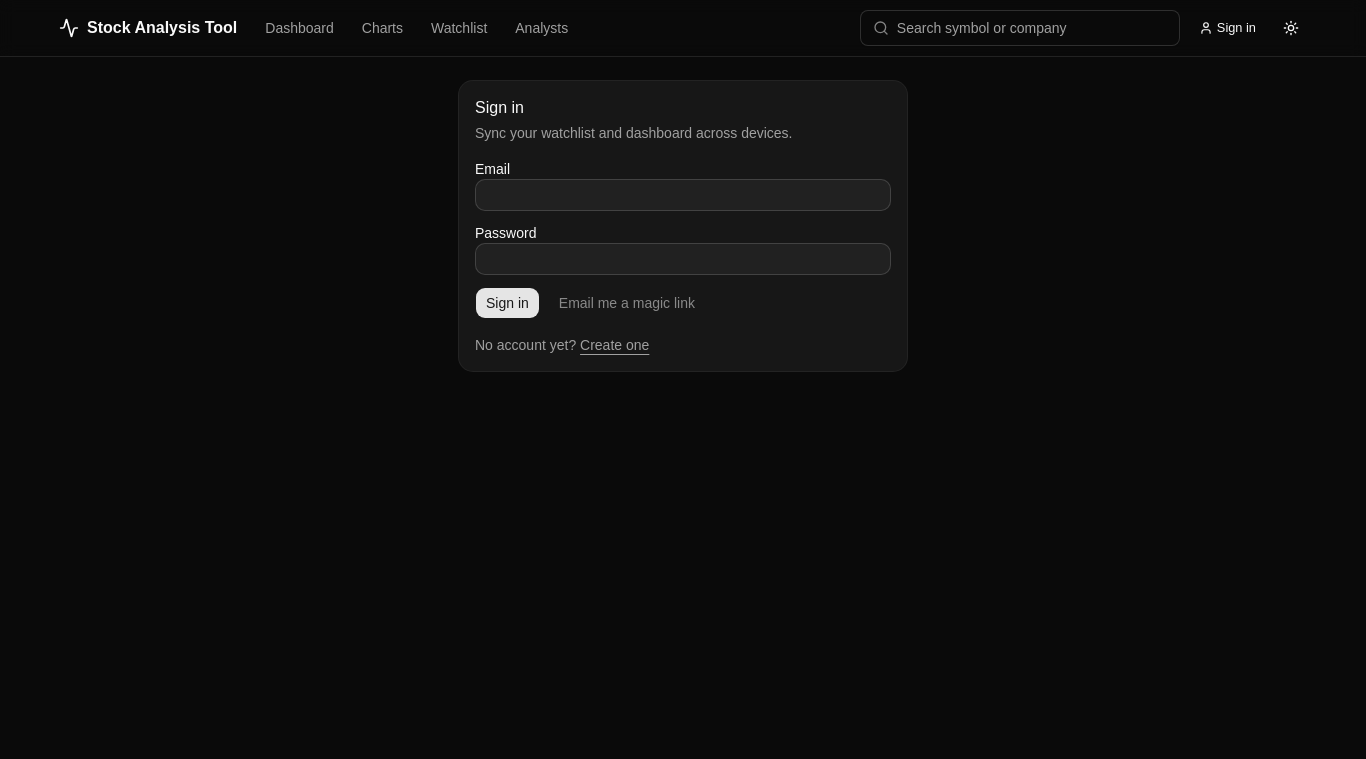
Test: auth flow › creates an account and lands on the dashboard
The width and height of the screenshot is (1366, 759).
Step 1. Click the button "Create one" → coordinates (615, 345), box [580, 335, 649, 355]
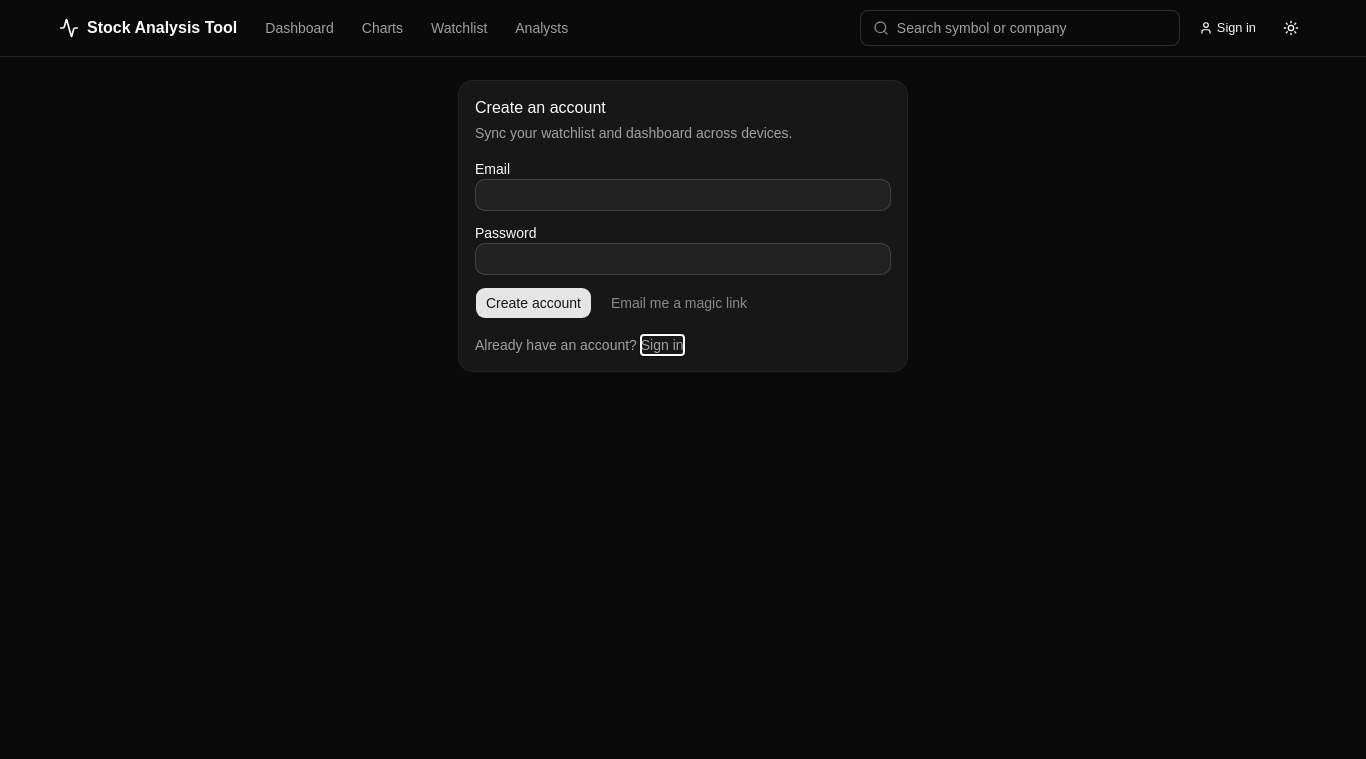
Step 2. Type "new@example.com" into the field labelled "Email" → coordinates (683, 195), box [475, 179, 891, 211]
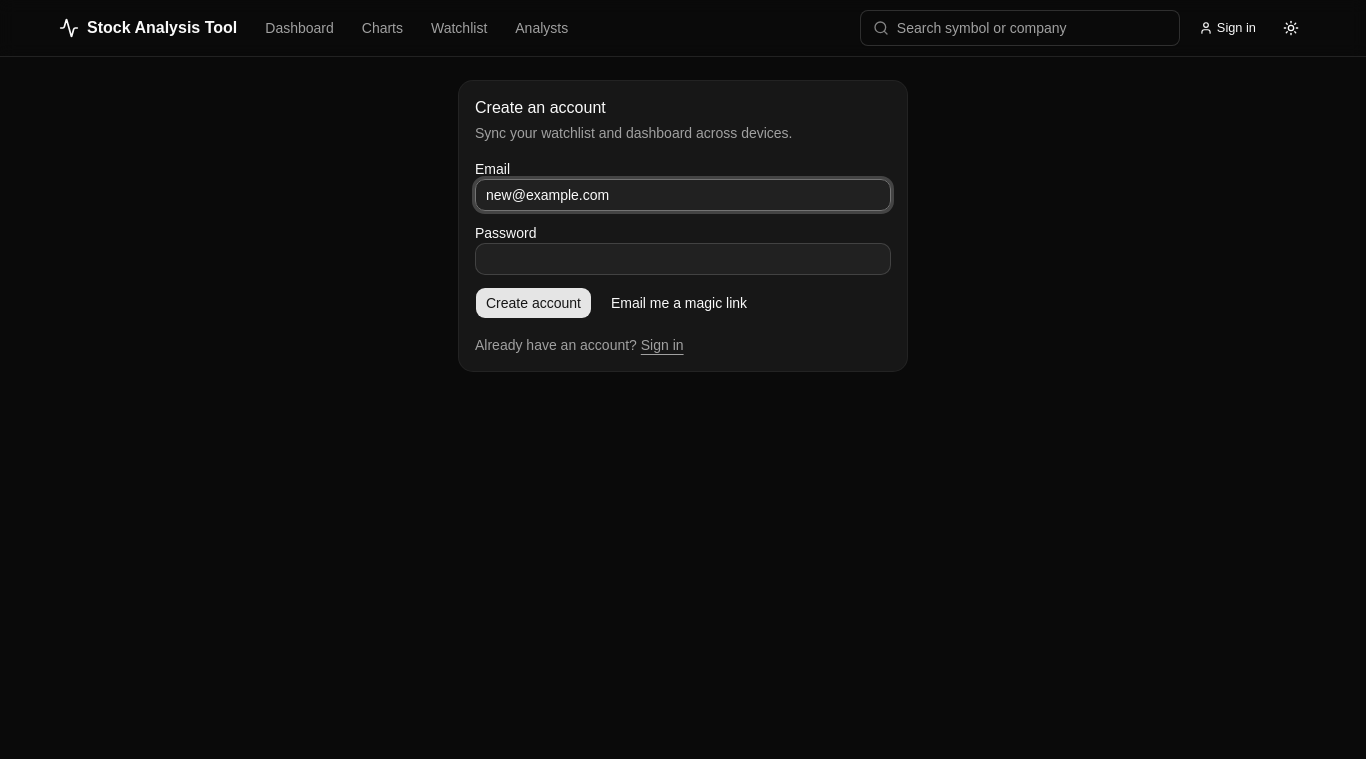
Step 3. Type "password123" into the password field labelled "Password" → coordinates (683, 259), box [475, 243, 891, 275]
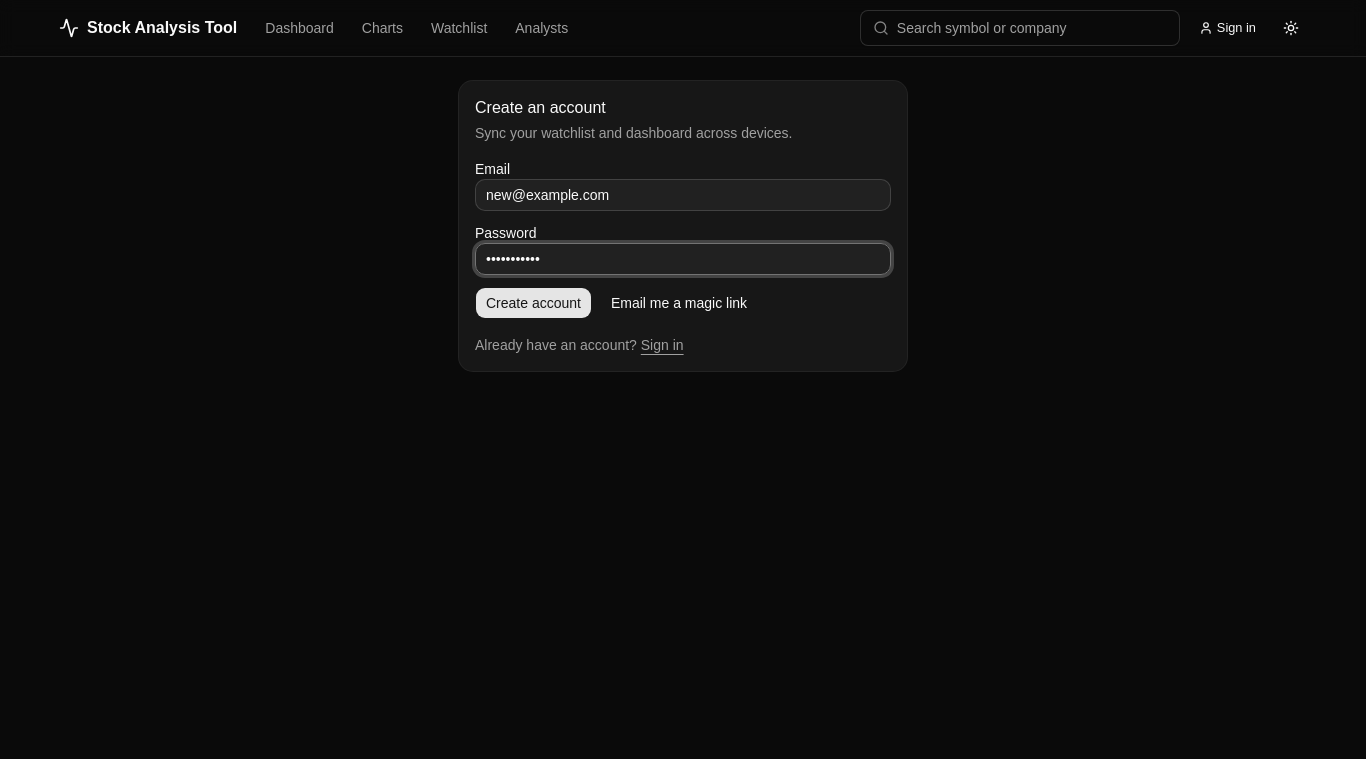
Step 4. Click the button "Create account" → coordinates (534, 303), box [475, 287, 592, 319]
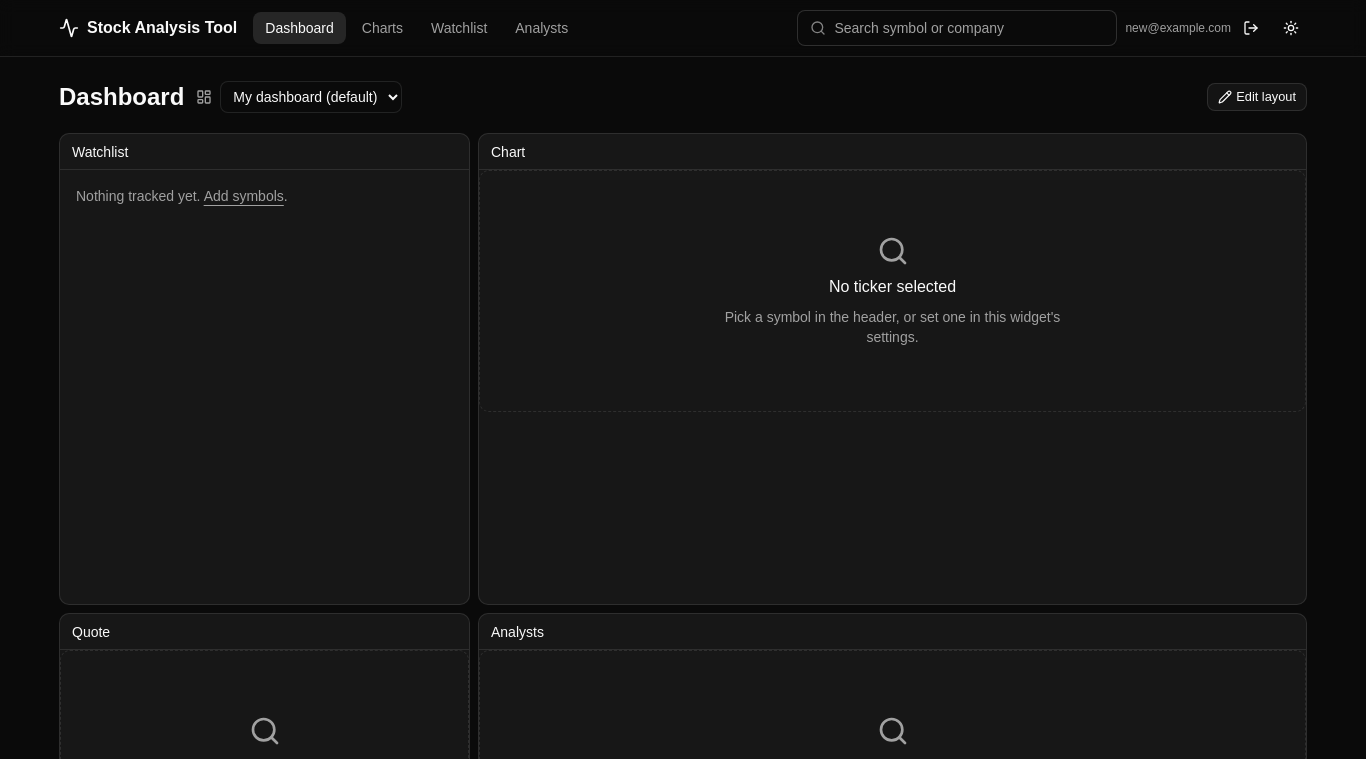
Check: the heading "Dashboard" is shown, box [59, 81, 184, 113]
Check: the text "new@example.com" is shown, box [1125, 20, 1231, 36]
